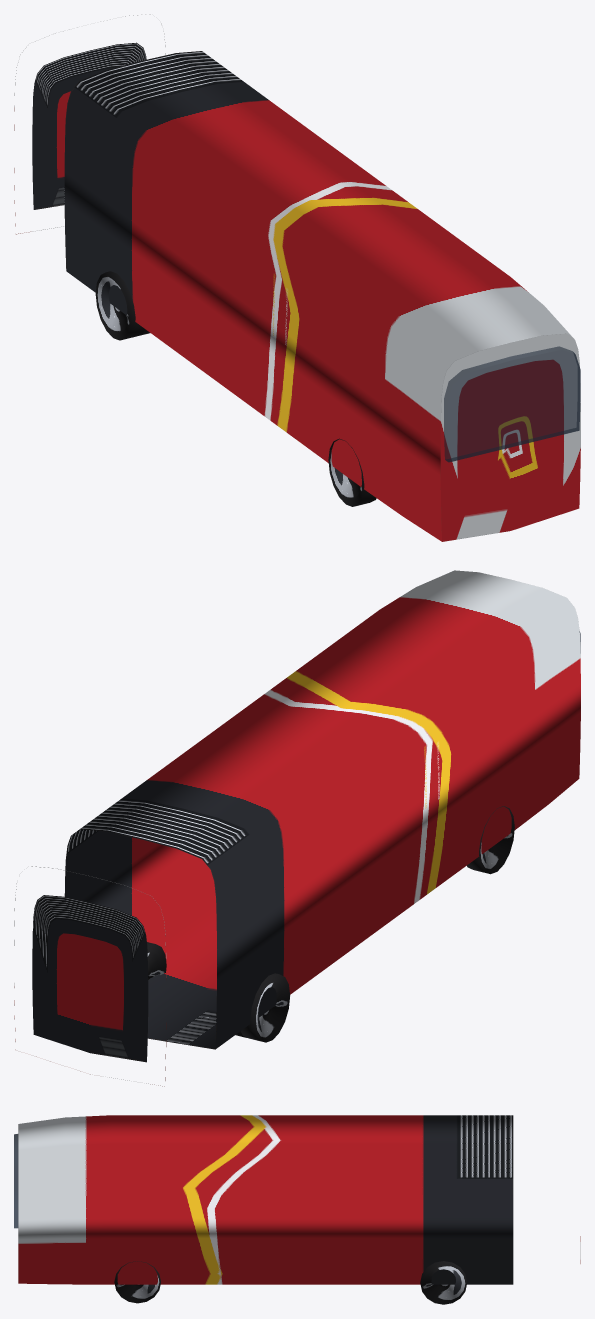
The model's file is IndianIntercityCoach_12M_Hero_LOD2.obj.
The picture shows the model from 3 angles, top to bottom: view 1: azimuth 30°, elevation 25°; view 2: azimuth 150°, elevation 25°; view 3: azimuth 270°, elevation 25°; orthographic projection. The views are drawn at different scales.
Parts seen in each view (by area): view 1: Exterior_Body, Exterior_Windshield, Wheels_RearLeftOuter, Wheels_FrontLeft; view 2: Exterior_Body, Wheels_RearLeftOuter, Wheels_FrontLeft; view 3: Exterior_Body, Wheels_RearRightOuter, Wheels_FrontRight, Exterior_Windshield.
Boxes of the visible parts, box(x1,y1,x2,y2) form: Exterior_Body: box(14, 14, 580, 541); Exterior_Windshield: box(444, 346, 580, 462); Wheels_RearLeftOuter: box(95, 271, 144, 340); Wheels_FrontLeft: box(328, 438, 376, 506); Exterior_Body: box(14, 570, 580, 1086); Wheels_RearLeftOuter: box(240, 973, 290, 1042); Wheels_FrontLeft: box(467, 806, 514, 874); Exterior_Body: box(18, 1115, 580, 1284); Wheels_RearRightOuter: box(420, 1261, 466, 1304); Wheels_FrontRight: box(114, 1261, 160, 1303); Exterior_Windshield: box(14, 1134, 18, 1228).
Bounding box in the file's own units: 2.74 × 3.6 × 12.6.
6 materials, 4 textured.
